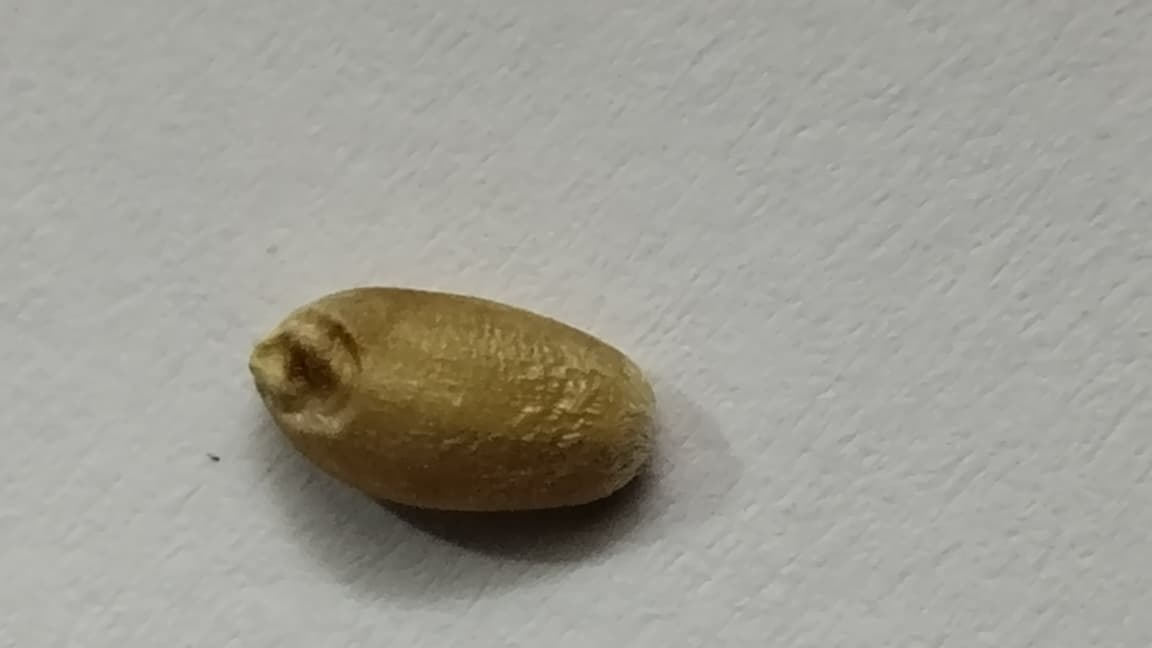healthy: (250, 287, 654, 511)
